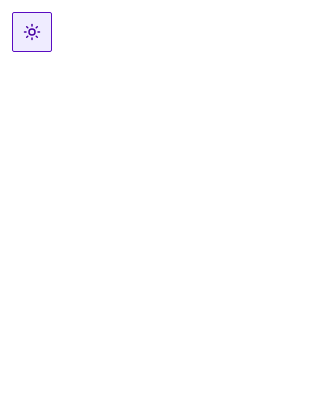
Test: ThemeToggle › keeps the page interactive while the theme menu is open
Click the button named "Appearance" at (32, 32), box [12, 12, 52, 52]
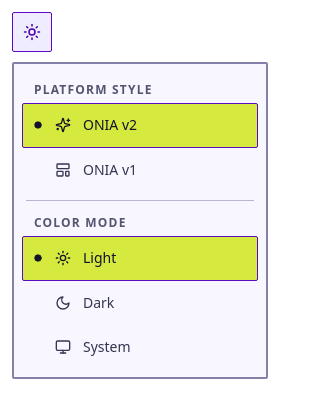
Expected: the menu is shown
Click the menu item "Dark" at (85, 302), box [55, 292, 114, 312]
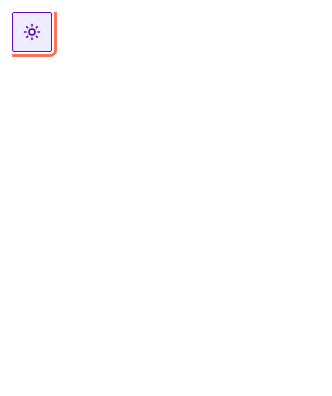
Expected: the menu is gone
